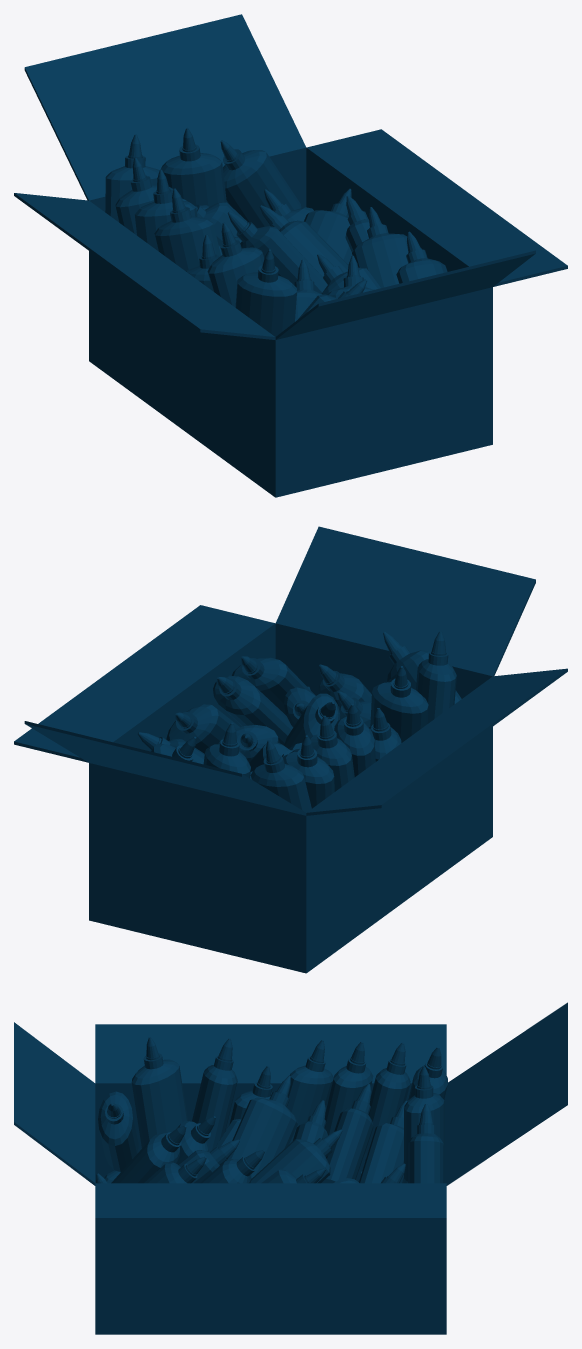
Rendered from caixa de papelao com cola FINAL.fbx.
The picture shows the model from 3 angles, top to bottom: view 1: azimuth 30°, elevation 25°; view 2: azimuth 150°, elevation 25°; view 3: azimuth 270°, elevation 25°; orthographic projection. The views are drawn at different scales.
Parts seen in each view (by area): view 1: Cola; view 2: Cola; view 3: Cola.
Part boxes in pixels (box(x1,y1,x2,y2)): Cola: box(14, 14, 567, 497); Cola: box(14, 526, 567, 973); Cola: box(14, 1002, 567, 1334).
Bounding box in the file's own units: 1367 × 877 × 1894.
